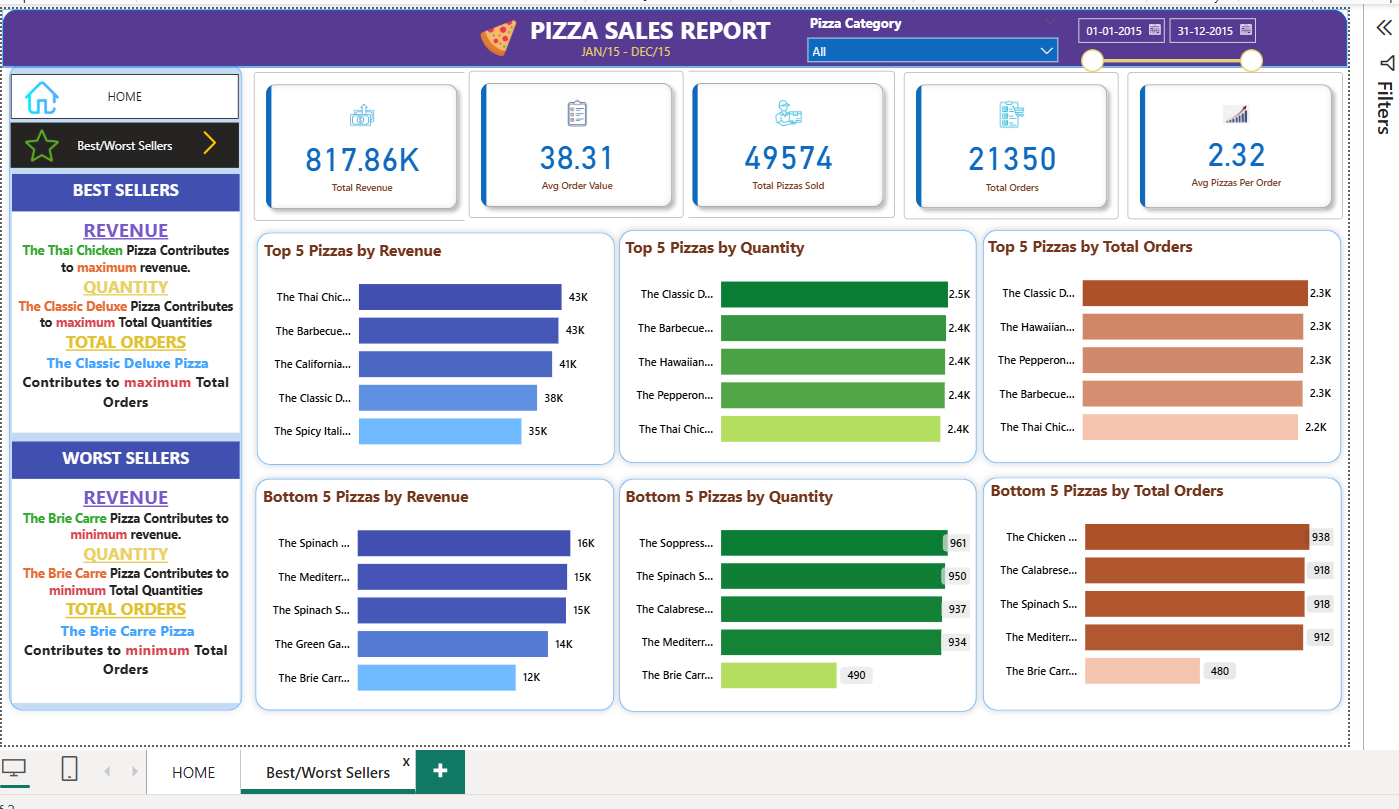

Layout of this report page (visuals, bound fields, positions):
{"tool":"powerbi","page":{"name":"Best/Worst Sellers","canvas":[1500,820],"ordinal":1},"visuals":[{"type":"cardVisual","fields":{"Data":["pizza_sales.Total Revenue"]},"box":[275.7,65.5,249.3,175.5],"z":0},{"type":"shape","box":[0,52.9,275.7,736.7],"z":1000},{"type":"cardVisual","fields":{"Data":["pizza_sales.Total Pizzas Sold"]},"box":[750.6,64.1,249.3,174.1],"z":2000},{"type":"cardVisual","fields":{"Data":["pizza_sales.Avg Order Value"]},"box":[515.3,64.1,249.3,174.1],"z":3000},{"type":"cardVisual","fields":{"Data":["pizza_sales.Total Orders"]},"box":[999.9,65.5,249.3,174.1],"z":4000},{"type":"cardVisual","fields":{"Data":["pizza_sales.Avg Pizzas Per Order"]},"box":[1249.2,65.5,250.7,174.1],"z":5000},{"type":"shape","box":[0,0,1499.9,65.5],"z":6000},{"type":"textbox","box":[525,0,394.1,50.1],"z":7000},{"type":"textbox","box":[640.6,33.4,245.1,39],"z":8000},{"type":"shape","box":[275.7,240.9,415,275],"z":9000},{"type":"textbox","box":[11.1,225.6,253.5,246.5],"z":10000},{"type":"textbox","box":[11.1,183.8,253.5,41.8],"z":11000},{"type":"textbox","box":[11.1,481.9,253.5,41.8],"z":12000},{"type":"textbox","box":[11.1,523.6,253.5,249.3],"z":13000},{"type":"slicer","fields":{"Values":["pizza_sales.pizza_category"]},"box":[887.1,0,299.4,64.1],"z":14000},{"type":"slicer","fields":{"Values":["pizza_sales.order_date"]},"box":[1186.8,0,226.7,83.6],"z":15000},{"type":"shape","box":[680,238.6,414.3,275.7],"z":16000},{"type":"shape","box":[1084.9,238.1,415,275.7],"z":17000},{"type":"shape","box":[680,515.7,414.3,275.7],"z":18000},{"type":"shape","box":[1084.3,514.3,415.7,275.7],"z":19000},{"type":"shape","box":[274.3,515.7,415.7,274.3],"z":20000},{"type":"clusteredBarChart","title":"Top 5 Pizzas by Revenue","fields":{"Category":["pizza_sales.pizza_name"],"Y":["pizza_sales.Total Revenue"]},"box":[287.1,255.7,392.9,250],"z":21000},{"type":"clusteredBarChart","title":"Bottom 5 Pizzas by Revenue","fields":{"Category":["pizza_sales.pizza_name"],"Y":["pizza_sales.Total Revenue"]},"box":[285.7,530,392.9,250],"z":22000},{"type":"clusteredBarChart","title":"Top 5 Pizzas by Quantity","fields":{"Category":["pizza_sales.pizza_name"],"Y":["pizza_sales.Total Pizzas Sold"]},"box":[690,252.9,394.3,250],"z":23000},{"type":"clusteredBarChart","title":"Bottom 5 Pizzas by Quantity","fields":{"Category":["pizza_sales.pizza_name"],"Y":["pizza_sales.Total Pizzas Sold"]},"box":[690,530,394.3,247.1],"z":24000},{"type":"clusteredBarChart","title":"Top 5 Pizzas by Total Orders","fields":{"Category":["pizza_sales.pizza_name"],"Y":["pizza_sales.Total Orders"]},"box":[1093.2,252.1,392.7,249.3],"z":25000},{"type":"clusteredBarChart","title":"Bottom 5 Pizzas by Total Orders","fields":{"Category":["pizza_sales.pizza_name"],"Y":["pizza_sales.Total Orders"]},"box":[1096,523.6,392.7,249.3],"z":26000},{"type":"pageNavigator","box":[9.7,126.7,254.9,50.1],"z":27000},{"type":"pageNavigator","box":[9.7,72.4,254.9,50.1],"z":28000},{"type":"image","box":[210.3,130.9,43.2,36.2],"z":29000},{"type":"image","box":[20.9,75.2,47.4,47.4],"z":30000},{"type":"image","box":[20.9,125.3,47.4,54.3],"z":31000},{"type":"image","box":[525,7,55.7,51.5],"z":32000}]}

Visuals, with their boxes on the page's 1500x820 design canvas (x1, y1, x2, y2). These are canvas units, not pixel positions in the 1399x809 screenshot, which may show the page scaled, cropped or inside an application window:
cardVisual - pizza_sales.Total Revenue: {"x1": 276, "y1": 66, "x2": 525, "y2": 241}
shape: {"x1": 0, "y1": 53, "x2": 276, "y2": 790}
cardVisual - pizza_sales.Total Pizzas Sold: {"x1": 751, "y1": 64, "x2": 1000, "y2": 238}
cardVisual - pizza_sales.Avg Order Value: {"x1": 515, "y1": 64, "x2": 765, "y2": 238}
cardVisual - pizza_sales.Total Orders: {"x1": 1000, "y1": 66, "x2": 1249, "y2": 240}
cardVisual - pizza_sales.Avg Pizzas Per Order: {"x1": 1249, "y1": 66, "x2": 1500, "y2": 240}
shape: {"x1": 0, "y1": 0, "x2": 1500, "y2": 66}
textbox: {"x1": 525, "y1": 0, "x2": 919, "y2": 50}
textbox: {"x1": 641, "y1": 33, "x2": 886, "y2": 72}
shape: {"x1": 276, "y1": 241, "x2": 691, "y2": 516}
textbox: {"x1": 11, "y1": 226, "x2": 265, "y2": 472}
textbox: {"x1": 11, "y1": 184, "x2": 265, "y2": 226}
textbox: {"x1": 11, "y1": 482, "x2": 265, "y2": 524}
textbox: {"x1": 11, "y1": 524, "x2": 265, "y2": 773}
slicer - pizza_sales.pizza_category: {"x1": 887, "y1": 0, "x2": 1186, "y2": 64}
slicer - pizza_sales.order_date: {"x1": 1187, "y1": 0, "x2": 1414, "y2": 84}
shape: {"x1": 680, "y1": 239, "x2": 1094, "y2": 514}
shape: {"x1": 1085, "y1": 238, "x2": 1500, "y2": 514}
shape: {"x1": 680, "y1": 516, "x2": 1094, "y2": 791}
shape: {"x1": 1084, "y1": 514, "x2": 1500, "y2": 790}
shape: {"x1": 274, "y1": 516, "x2": 690, "y2": 790}
"Top 5 Pizzas by Revenue" clusteredBarChart: {"x1": 287, "y1": 256, "x2": 680, "y2": 506}
"Bottom 5 Pizzas by Revenue" clusteredBarChart: {"x1": 286, "y1": 530, "x2": 679, "y2": 780}
"Top 5 Pizzas by Quantity" clusteredBarChart: {"x1": 690, "y1": 253, "x2": 1084, "y2": 503}
"Bottom 5 Pizzas by Quantity" clusteredBarChart: {"x1": 690, "y1": 530, "x2": 1084, "y2": 777}
"Top 5 Pizzas by Total Orders" clusteredBarChart: {"x1": 1093, "y1": 252, "x2": 1486, "y2": 501}
"Bottom 5 Pizzas by Total Orders" clusteredBarChart: {"x1": 1096, "y1": 524, "x2": 1489, "y2": 773}
pageNavigator: {"x1": 10, "y1": 127, "x2": 265, "y2": 177}
pageNavigator: {"x1": 10, "y1": 72, "x2": 265, "y2": 122}
image: {"x1": 210, "y1": 131, "x2": 254, "y2": 167}
image: {"x1": 21, "y1": 75, "x2": 68, "y2": 123}
image: {"x1": 21, "y1": 125, "x2": 68, "y2": 180}
image: {"x1": 525, "y1": 7, "x2": 581, "y2": 58}
